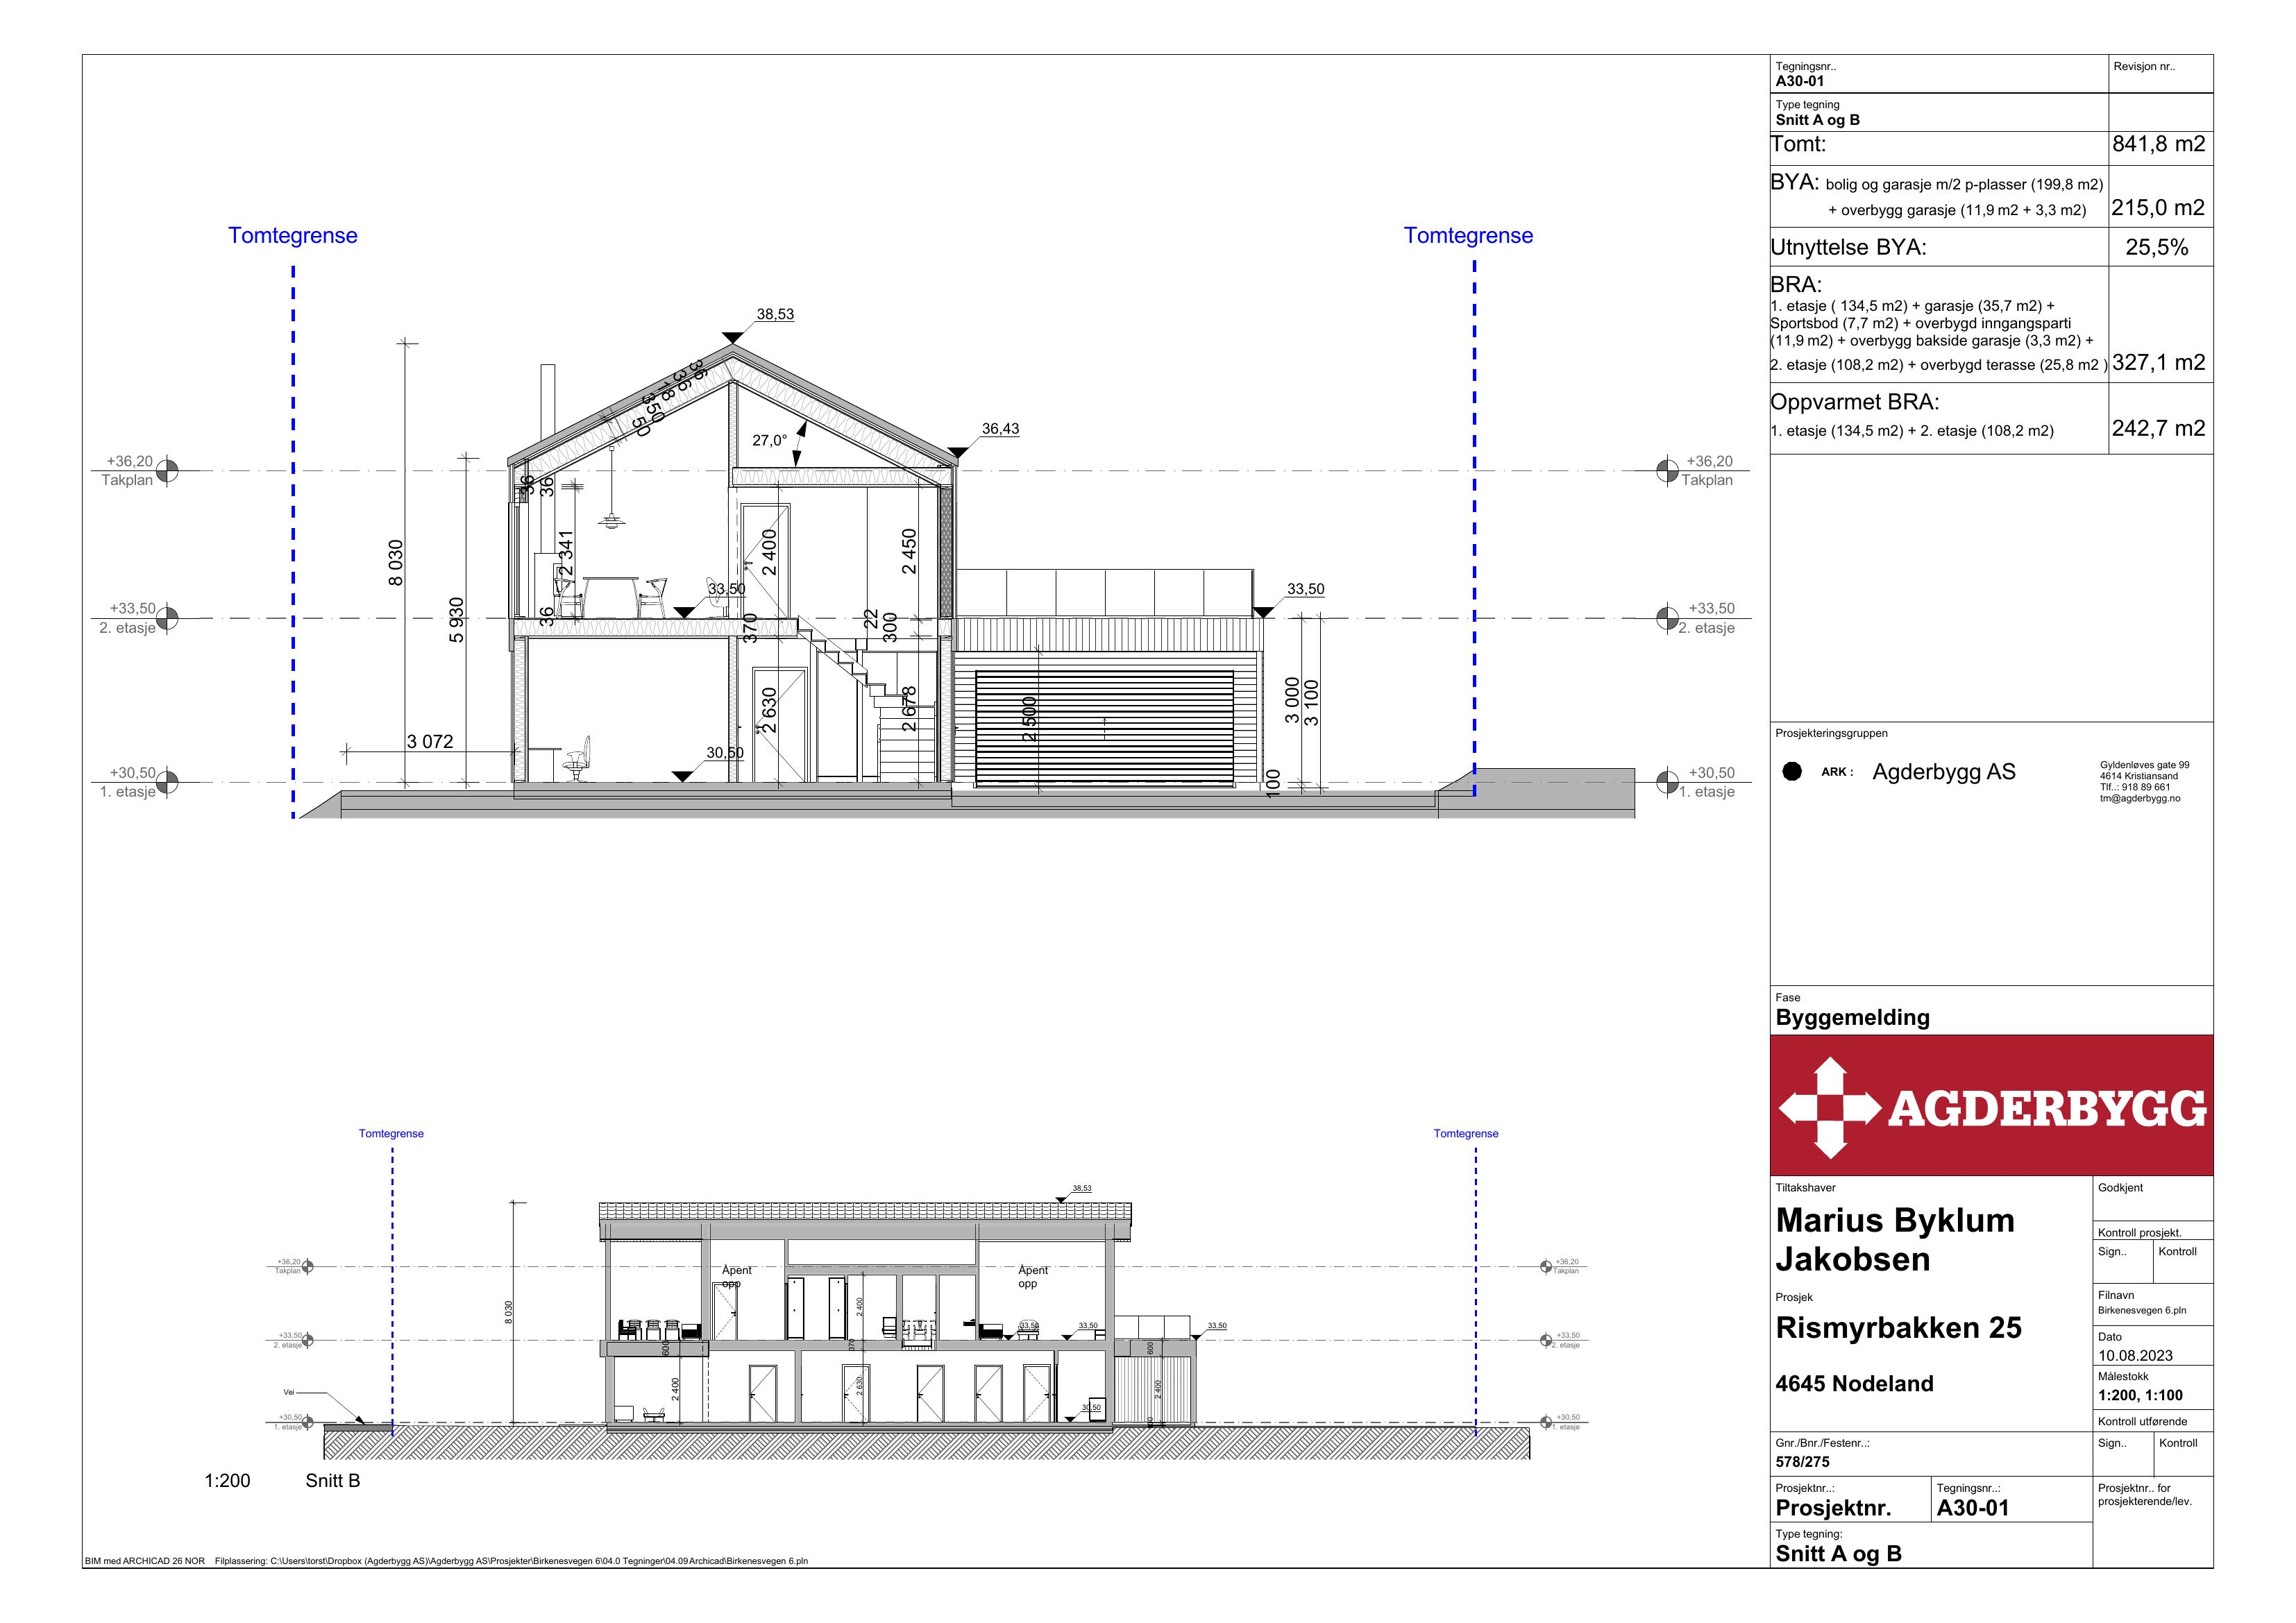snitt: (415, 299, 1335, 811), (576, 1152, 1219, 1437)
